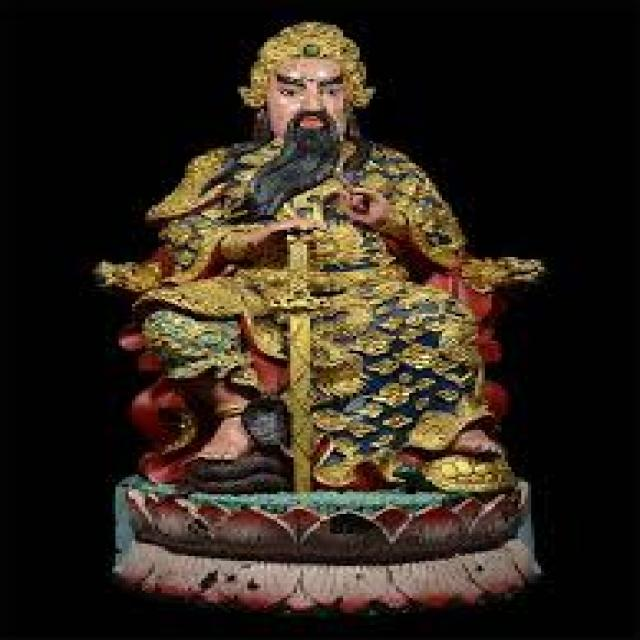Xuan wu: (151, 14, 490, 480)
